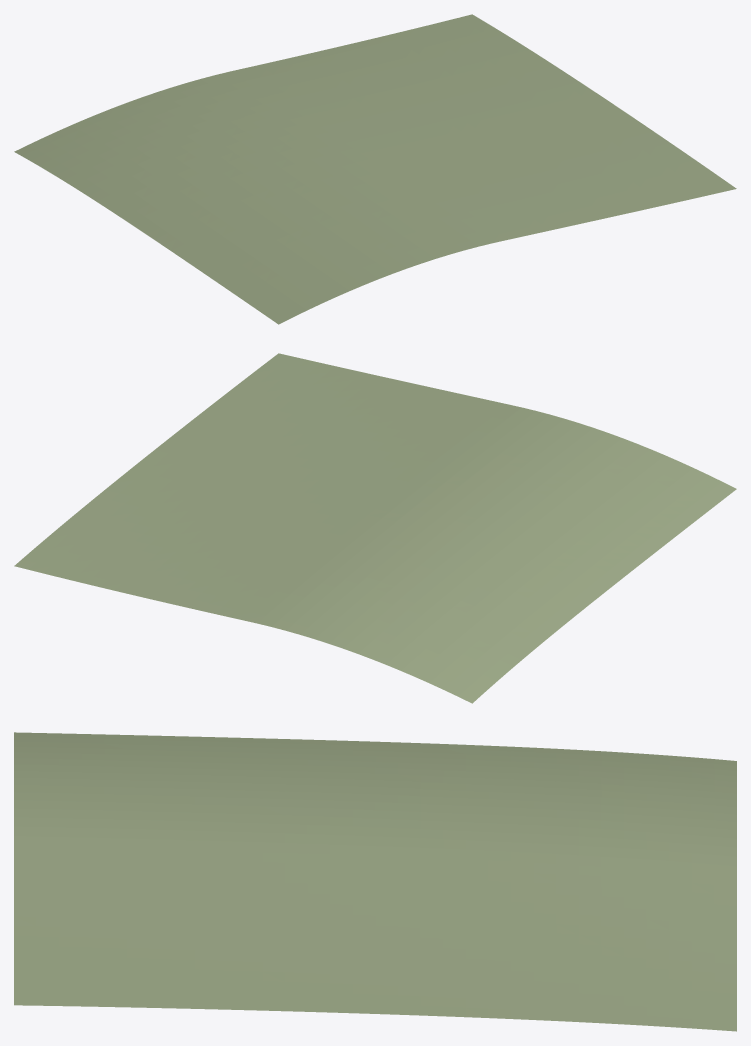
File: expanse-26-12.glb
3 renders of one model, top to bottom at view 1: azimuth 30°, elevation 25°; view 2: azimuth 150°, elevation 25°; view 3: azimuth 270°, elevation 25°, orthographic. The views are drawn at different scales.
Parts seen in each view (by area): view 1: expanse-26-12; view 2: expanse-26-12; view 3: expanse-26-12.
Part boxes in pixels (<box>): expanse-26-12: <box>14,14,736,324</box>; expanse-26-12: <box>14,353,736,703</box>; expanse-26-12: <box>14,732,736,1031</box>.
Bounding box in the file's own units: 256 × 26.73 × 256.
